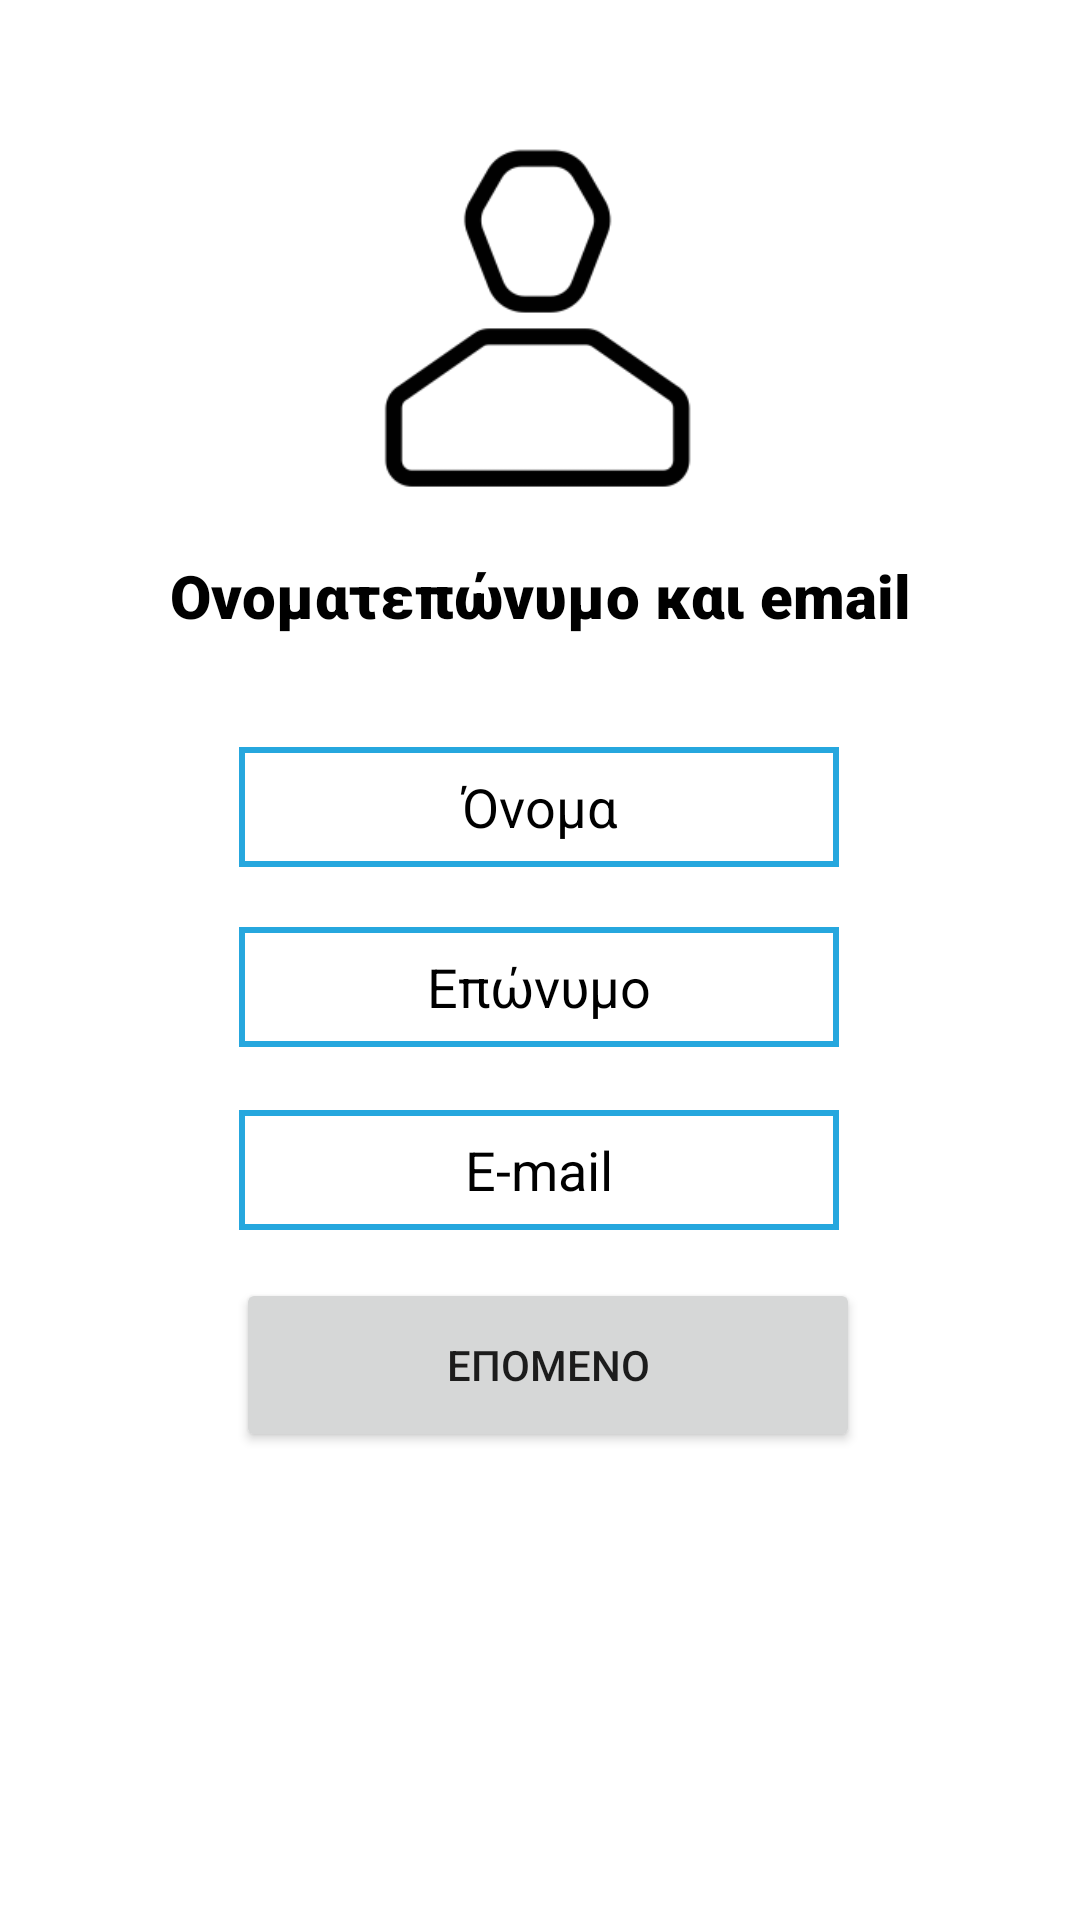

Screen size 1080 x 1920. Icon name, then its box in pixels as {"left": x1, "top": y1, "right": x2, "bottom": y2}:
profileicon: {"left": 384, "top": 149, "right": 691, "bottom": 487}
